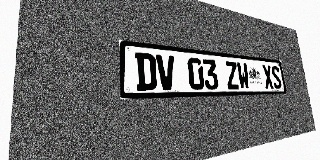0: (187, 57, 205, 90)
3: (202, 59, 219, 90)
D: (135, 52, 157, 91)
S: (270, 65, 282, 89)
V: (156, 54, 176, 90)
W: (236, 62, 250, 89)
X: (262, 65, 274, 89)
Z: (224, 61, 239, 89)
